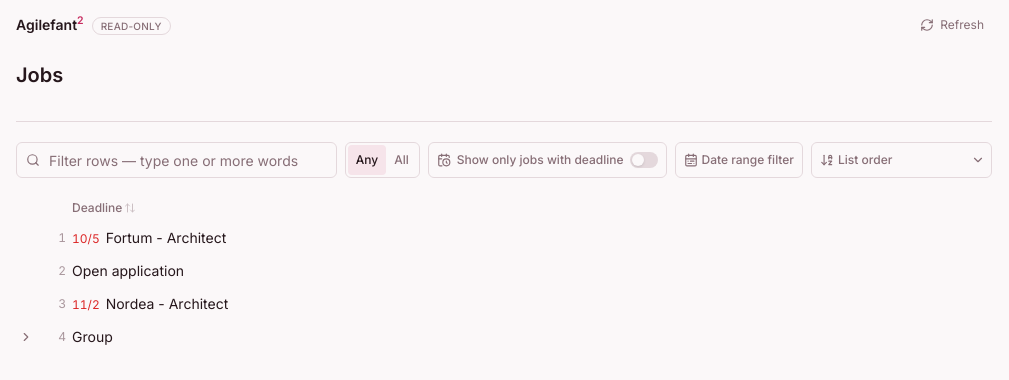
on the page › brings every row back when switched off again
Expected: the text "Fortum - Architect" is shown, [106,228,226,248]
Click the switch labelled "Show only jobs with deadline": (547, 160) [428,142,666,178]
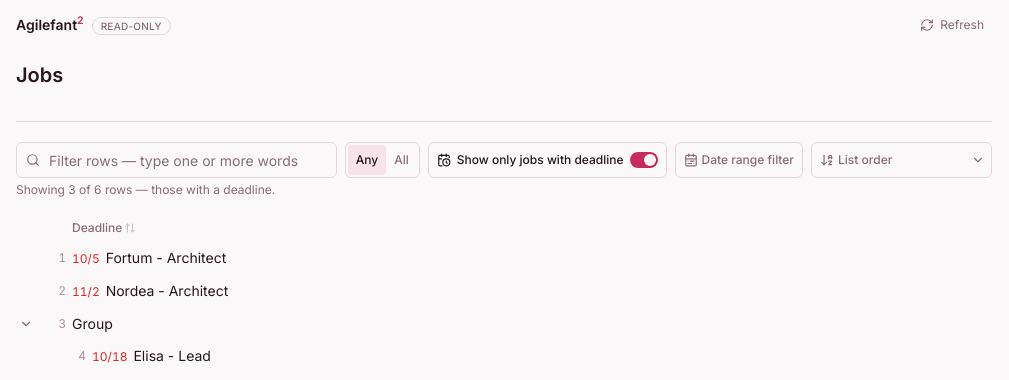
Click the switch labelled "Show only jobs with deadline": (547, 160) [428,142,666,178]
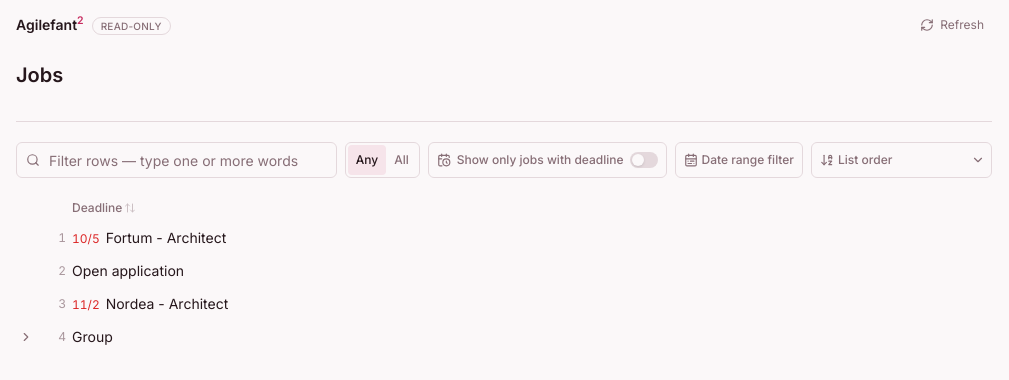
Expected: the message "Showing 3 of 6 rows — those with a deadline." is gone
